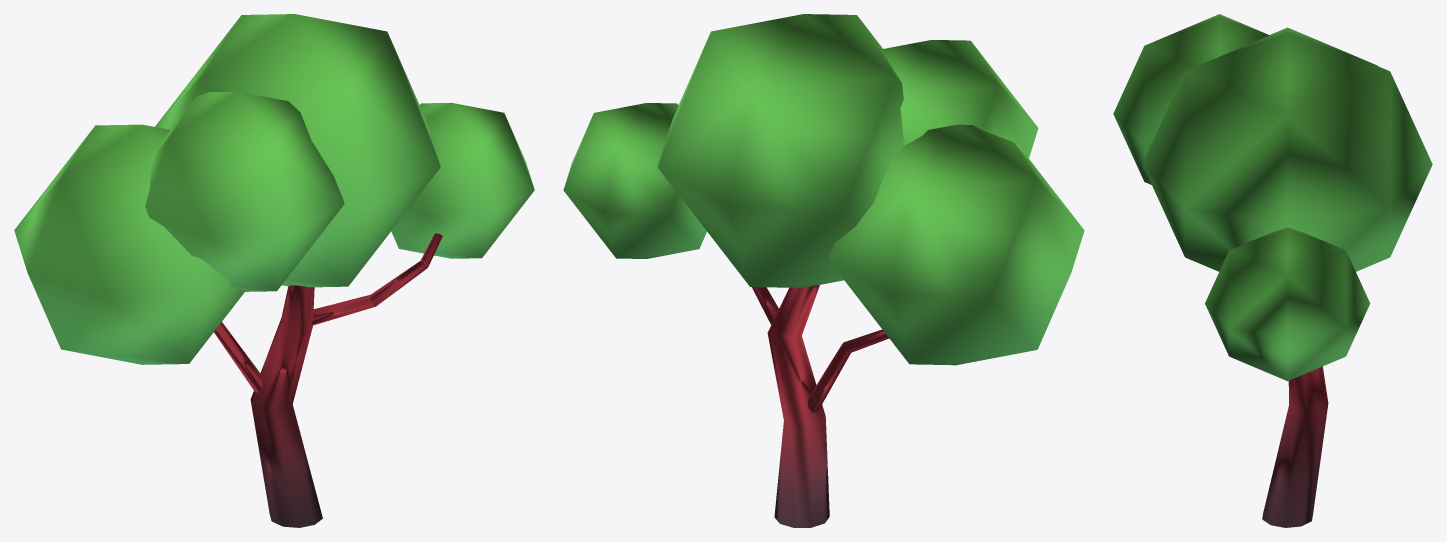
The model's file is tree_round_1.glb.
3 views of the same model, side by side, from view 1: azimuth 30°, elevation 25°; view 2: azimuth 150°, elevation 25°; view 3: azimuth 270°, elevation 25° (orthographic). The views are drawn at different scales.
Visible parts, largest first — view 1: tree_round_1; view 2: tree_round_1; view 3: tree_round_1.
Boxes of the visible parts, box(x1,y1,x2,y2) form: tree_round_1: box(14, 14, 534, 527); tree_round_1: box(563, 14, 1084, 527); tree_round_1: box(1113, 14, 1432, 527).
Size of the model in its own units: 5.19 by 5 by 3.
Materials: 1 (1 with a texture image).
